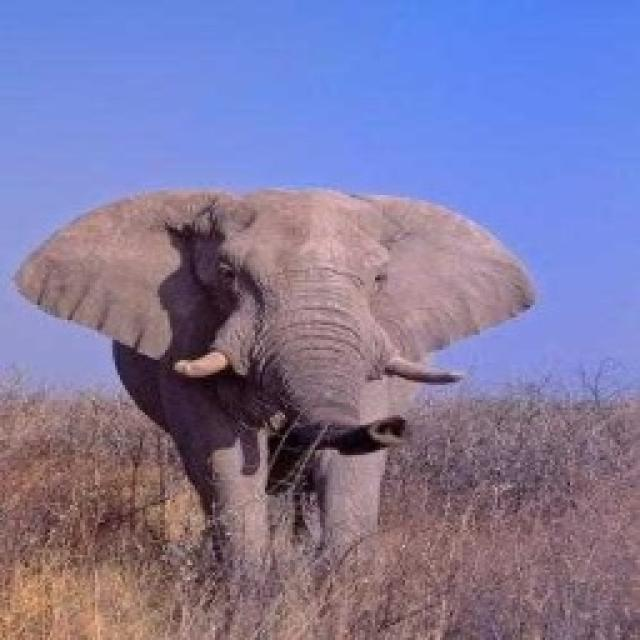not_pig: (10, 185, 535, 583)
